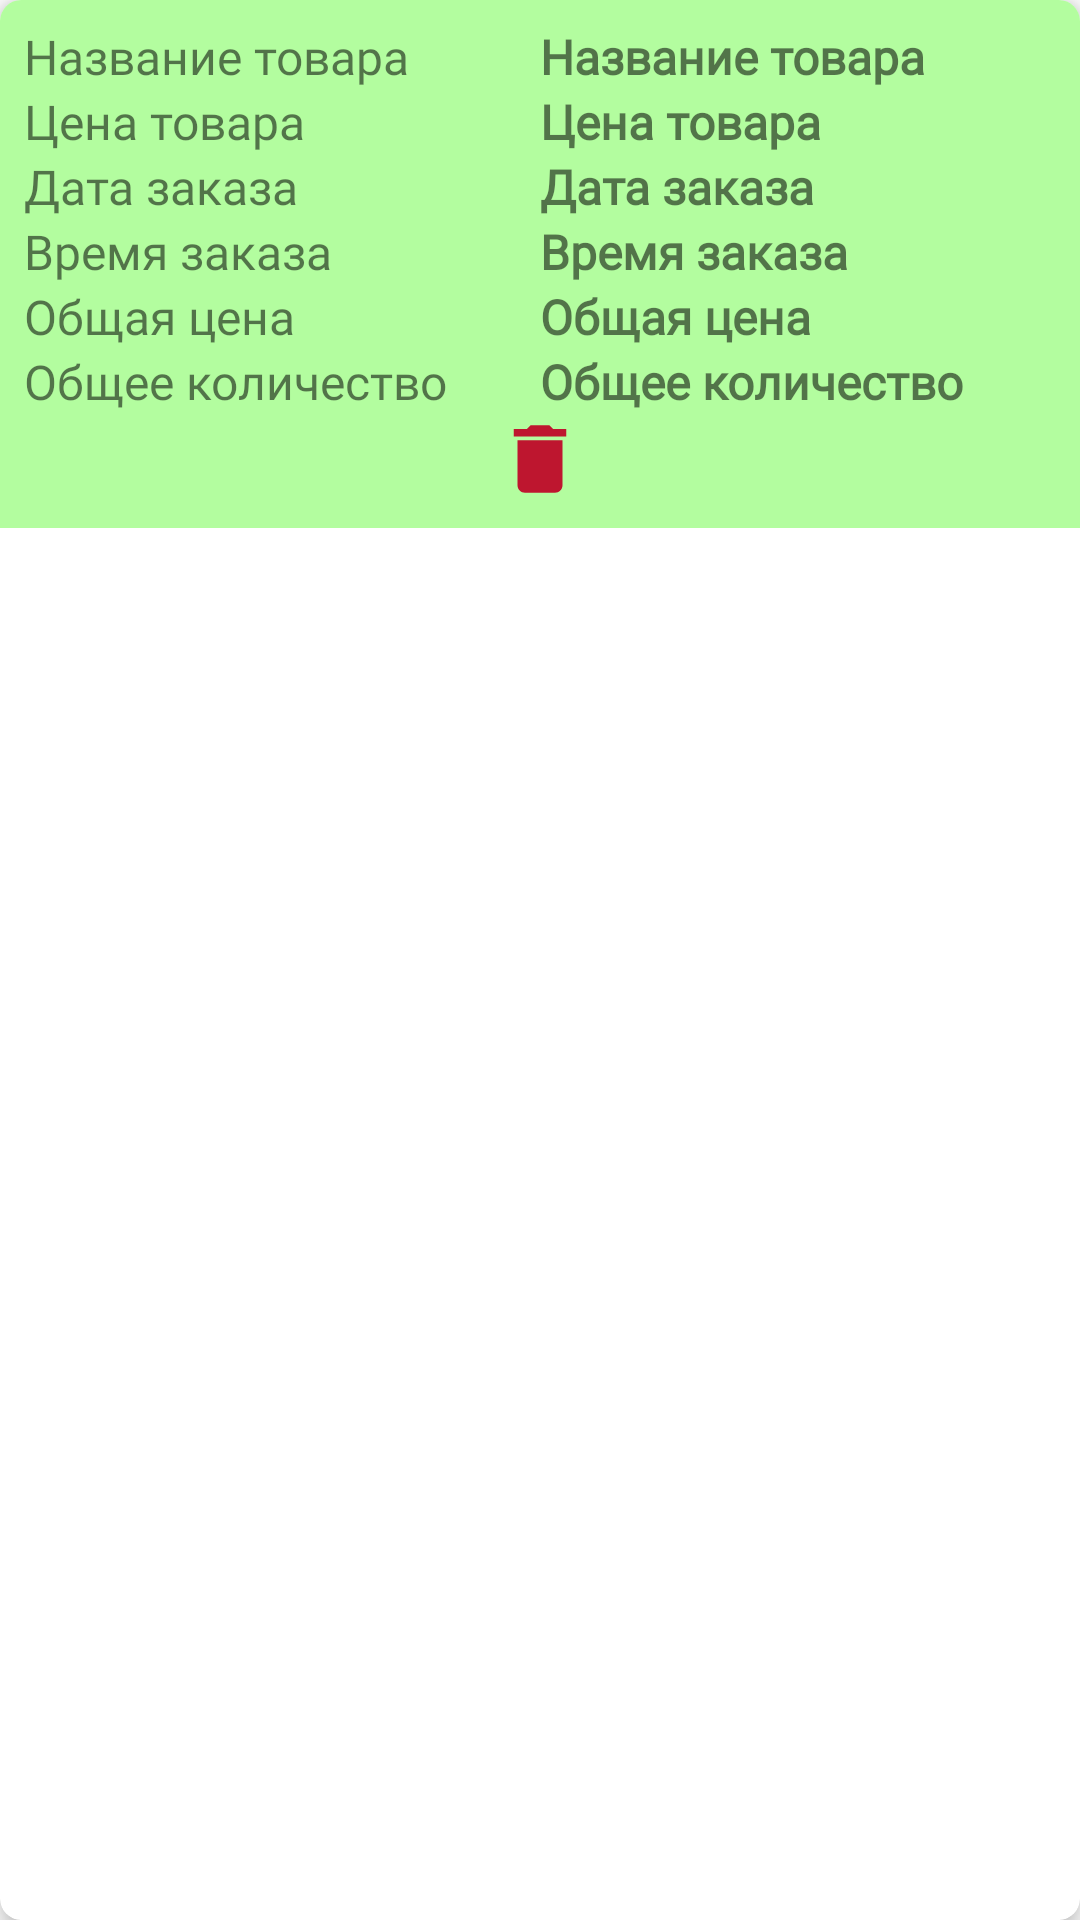

Screen size 1080×1920. Icon name, then its center in pixels as (x,y):
delete: (540,459)
